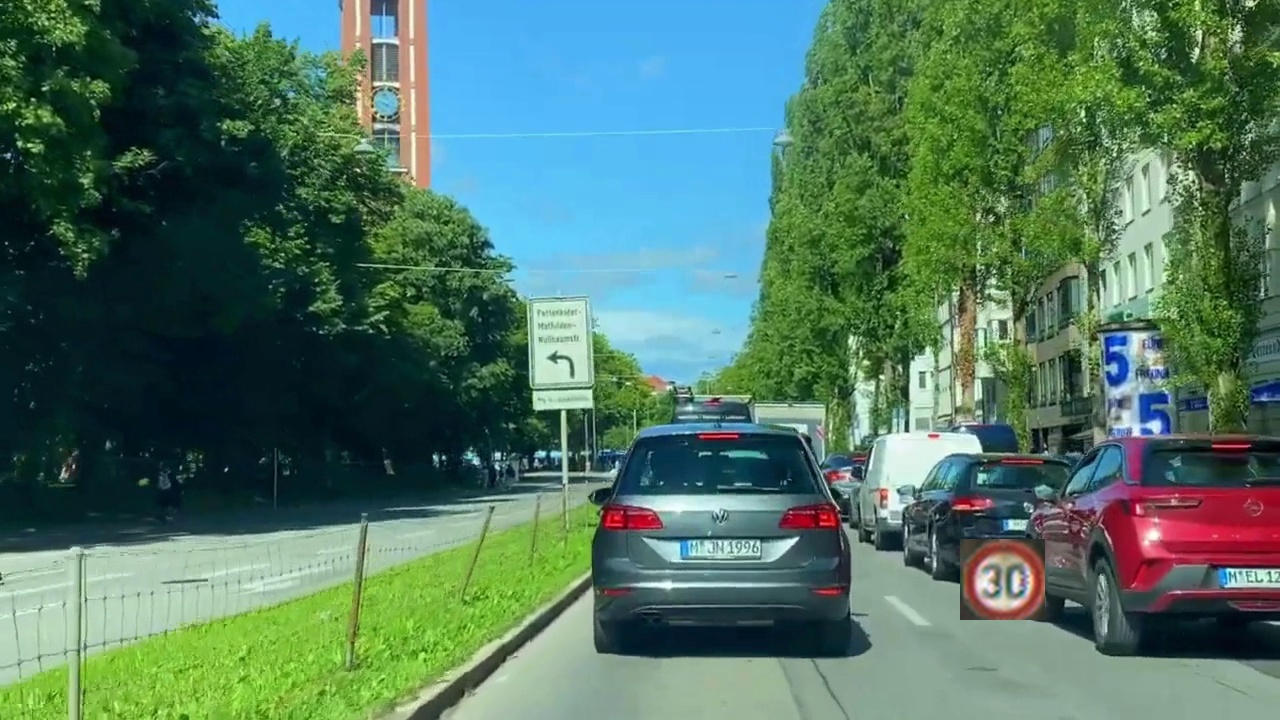Speed 30: (960, 539, 1045, 620)
